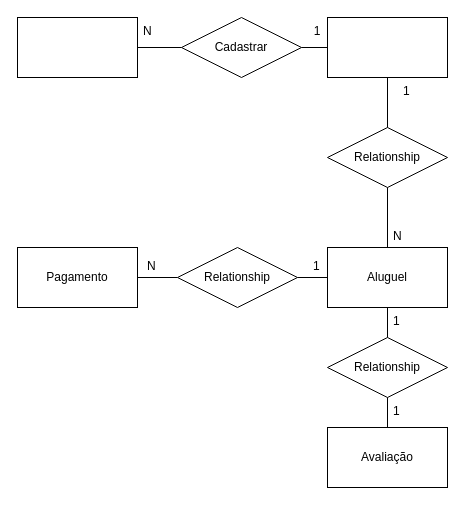
The diagram is 465 pixels wide and 505 high, and some of its shapes have lost their labels. Each missing label, with the centre of its shape:
"Máquina" goes at pixel 387 47.
"User" goes at pixel 77 47.
